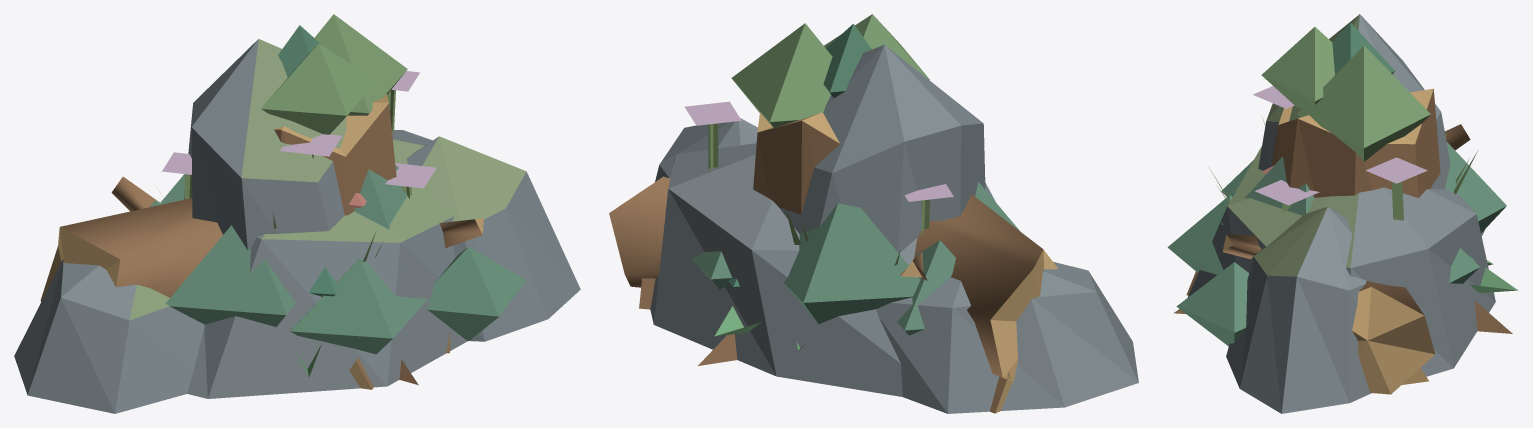
File: WG_ForestFloorProps.glb
3 views of the same model, side by side, from view 1: azimuth 30°, elevation 25°; view 2: azimuth 150°, elevation 25°; view 3: azimuth 270°, elevation 25° (orthographic). The views are drawn at different scales.
Visible parts, largest first — view 1: GEO_GranitePair_LOD0, GEO_GraniteSlab_LOD0, GEO_UnderstoryShrub_LOD0, GEO_GraniteUpright_LOD0, GEO_DeadwoodFallen_LOD0, GEO_LeafySapling_LOD0, GEO_StumpRooted_LOD0, GEO_WildflowerPatch_LOD0, GEO_PineSapling_LOD0, GEO_UnderstoryBilberry_LOD0; view 2: GEO_GraniteSlab_LOD0, GEO_GranitePair_LOD0, GEO_GraniteUpright_LOD0, GEO_DeadwoodFallen_LOD0, GEO_UnderstoryShrub_LOD0, GEO_LeafySapling_LOD0, GEO_StumpRooted_LOD0, GEO_WildflowerPatch_LOD0, GEO_PineSapling_LOD0, GEO_TwigPile_LOD0, GEO_UnderstoryFern_LOD0; view 3: GEO_GranitePair_LOD0, GEO_GraniteSlab_LOD0, GEO_LeafySapling_LOD0, GEO_UnderstoryShrub_LOD0, GEO_StumpRooted_LOD0, GEO_DeadwoodFallen_LOD0, GEO_GraniteUpright_LOD0, GEO_WildflowerPatch_LOD0, GEO_PineSapling_LOD0, GEO_UnderstoryFern_LOD0.
Part boxes in pixels (box(x1,y1,x2,y2)): GEO_GranitePair_LOD0: box(14, 136, 580, 413); GEO_GraniteSlab_LOD0: box(187, 130, 467, 398); GEO_UnderstoryShrub_LOD0: box(150, 165, 525, 354); GEO_GraniteUpright_LOD0: box(184, 39, 346, 250); GEO_DeadwoodFallen_LOD0: box(40, 176, 483, 301); GEO_LeafySapling_LOD0: box(261, 14, 407, 134); GEO_StumpRooted_LOD0: box(274, 94, 418, 385); GEO_WildflowerPatch_LOD0: box(162, 71, 436, 199); GEO_PineSapling_LOD0: box(278, 25, 322, 77); GEO_UnderstoryBilberry_LOD0: box(308, 267, 337, 296); GEO_GraniteSlab_LOD0: box(650, 143, 995, 396); GEO_GranitePair_LOD0: box(655, 118, 1138, 413); GEO_GraniteUpright_LOD0: box(780, 44, 985, 252); GEO_DeadwoodFallen_LOD0: box(609, 176, 1058, 381); GEO_UnderstoryShrub_LOD0: box(691, 182, 1019, 335); GEO_LeafySapling_LOD0: box(731, 14, 929, 127); GEO_StumpRooted_LOD0: box(698, 112, 839, 365); GEO_WildflowerPatch_LOD0: box(684, 101, 953, 236); GEO_PineSapling_LOD0: box(823, 24, 871, 97); GEO_TwigPile_LOD0: box(639, 278, 1012, 413); GEO_UnderstoryFern_LOD0: box(714, 306, 805, 350); GEO_GranitePair_LOD0: box(1226, 206, 1484, 413); GEO_GraniteSlab_LOD0: box(1187, 146, 1495, 376); GEO_LeafySapling_LOD0: box(1261, 27, 1430, 161); GEO_UnderstoryShrub_LOD0: box(1167, 142, 1506, 346); GEO_StumpRooted_LOD0: box(1173, 88, 1512, 333); GEO_DeadwoodFallen_LOD0: box(1222, 124, 1470, 394); GEO_GraniteUpright_LOD0: box(1258, 14, 1450, 189); GEO_WildflowerPatch_LOD0: box(1253, 86, 1427, 220); GEO_PineSapling_LOD0: box(1332, 22, 1394, 74); GEO_UnderstoryFern_LOD0: box(1470, 260, 1517, 293).
Bounding box in the file's own units: 1.27 × 0.69 × 0.7857.
